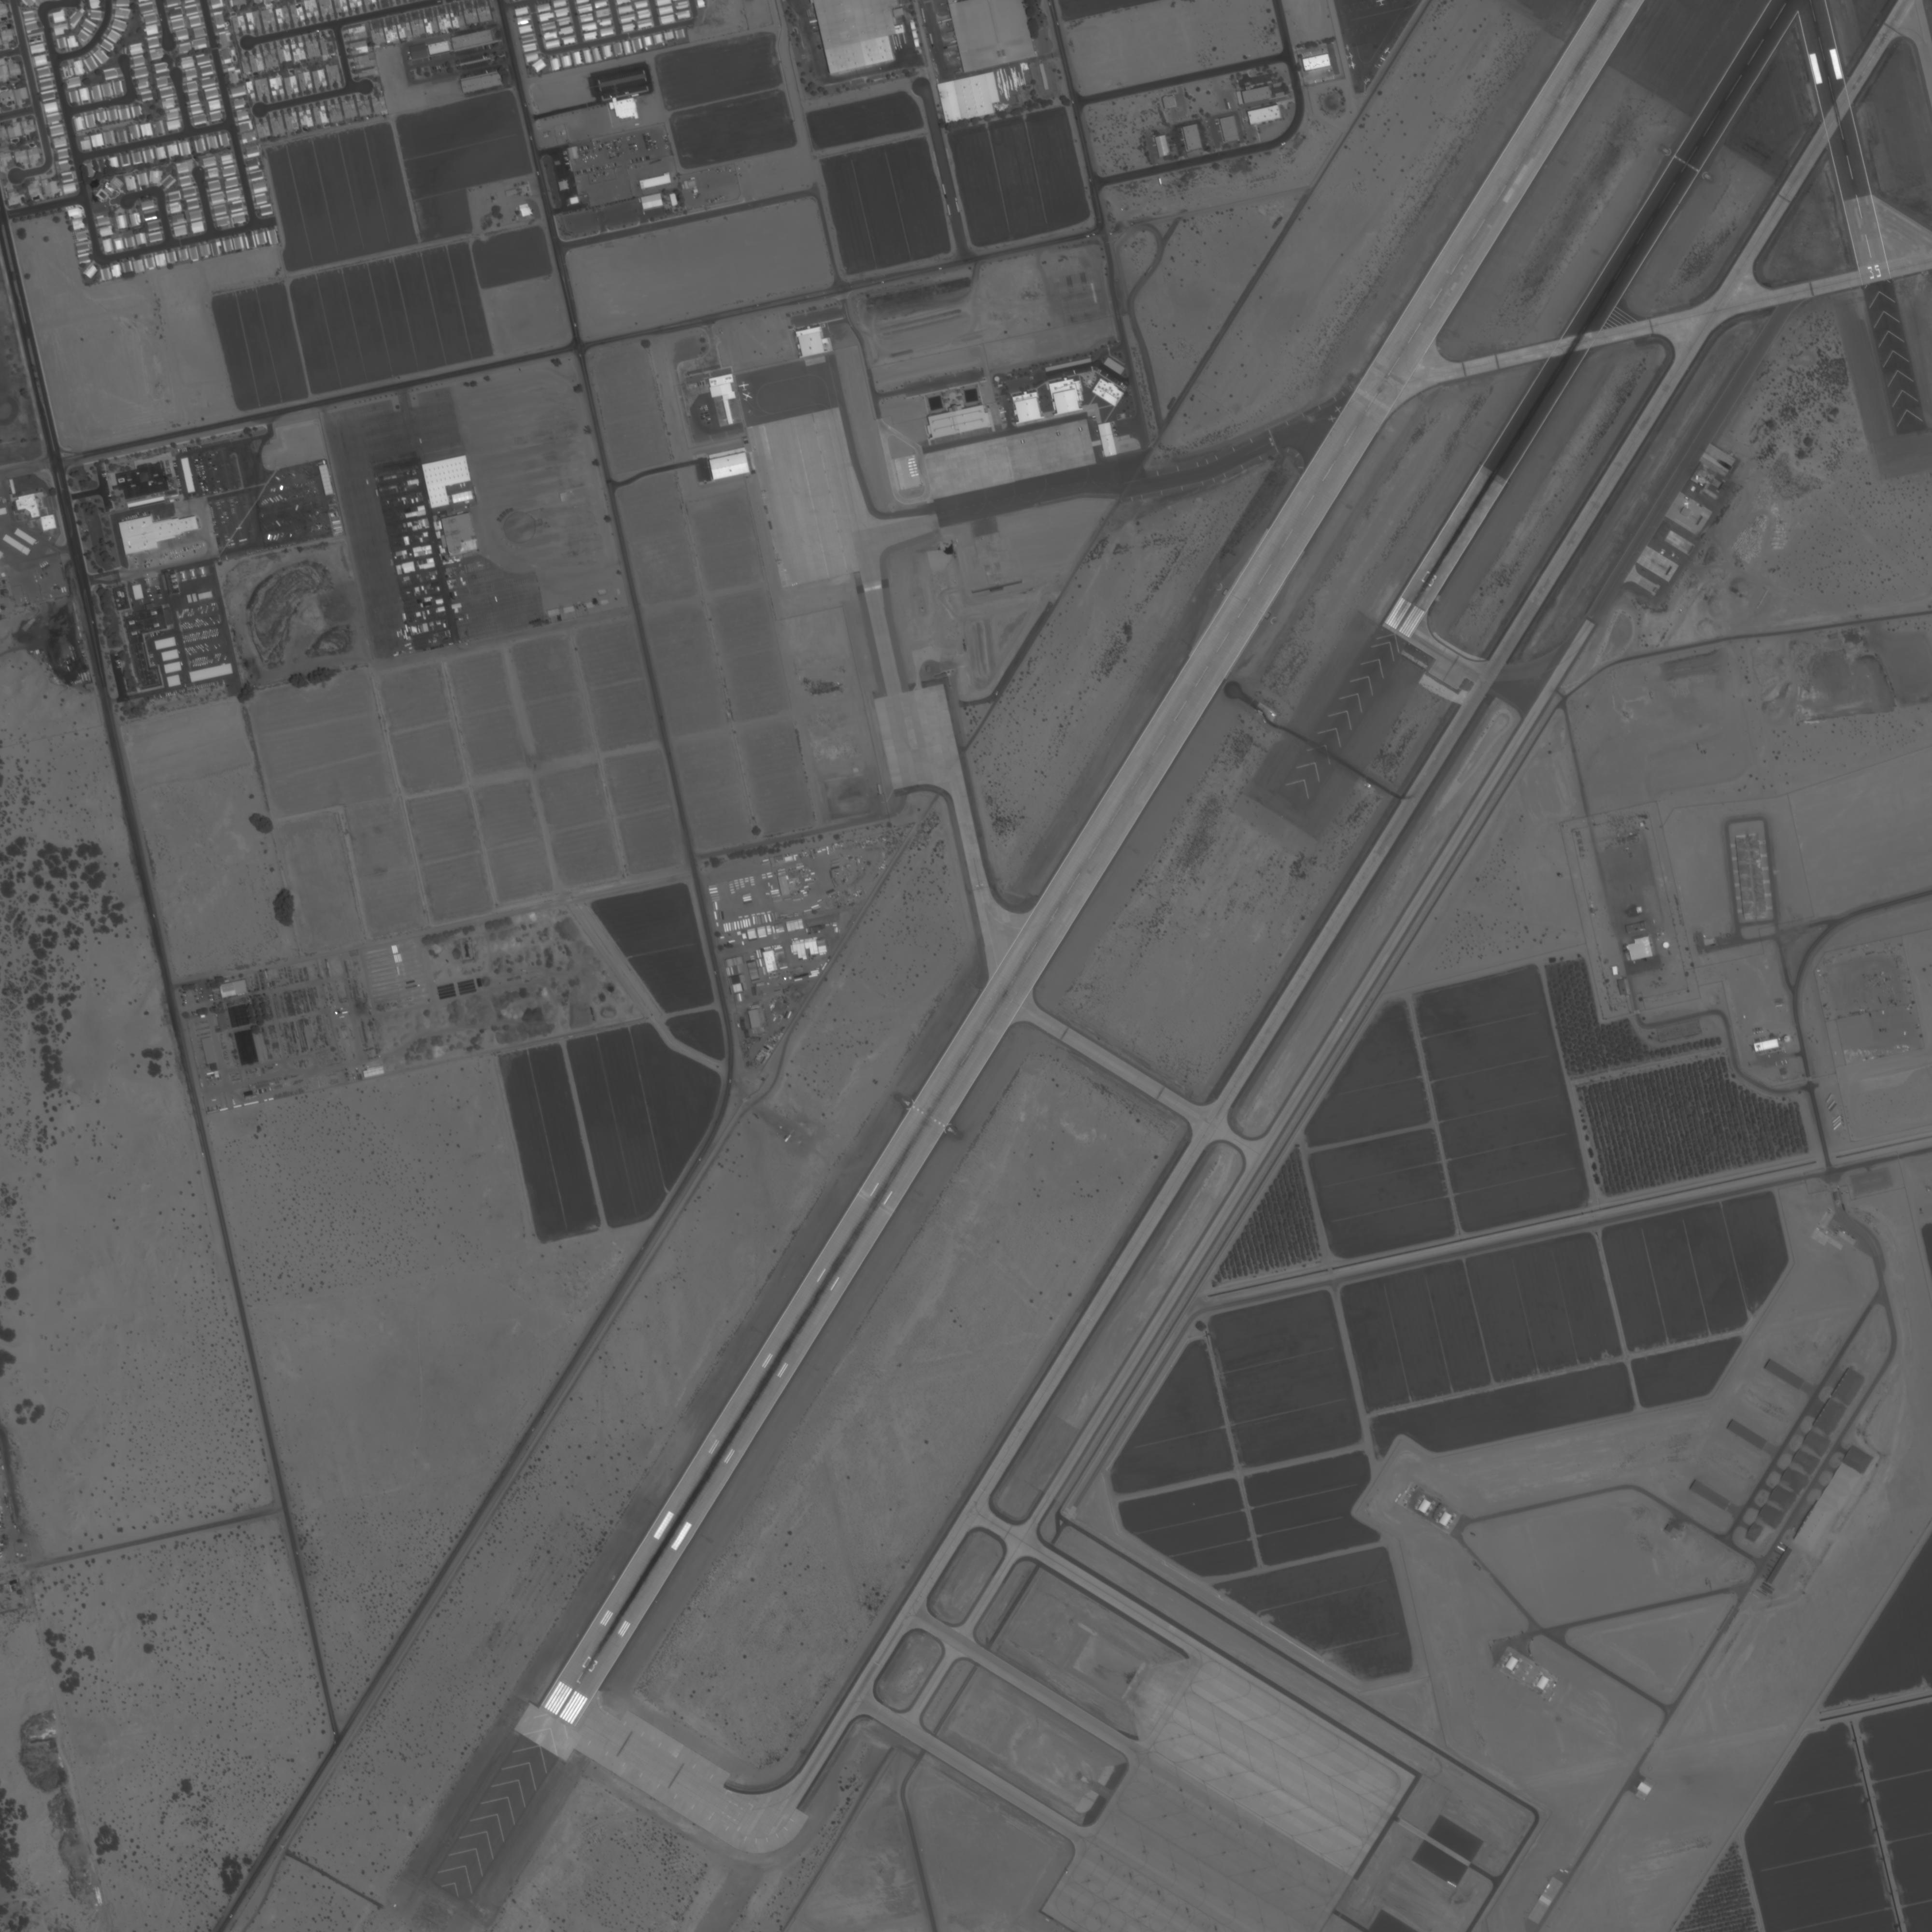plane: (740, 387, 755, 403), (736, 377, 750, 393), (1346, 58, 1359, 73), (1384, 46, 1394, 57), (1345, 51, 1355, 62), (1375, 0, 1387, 7), (1345, 42, 1352, 53)
